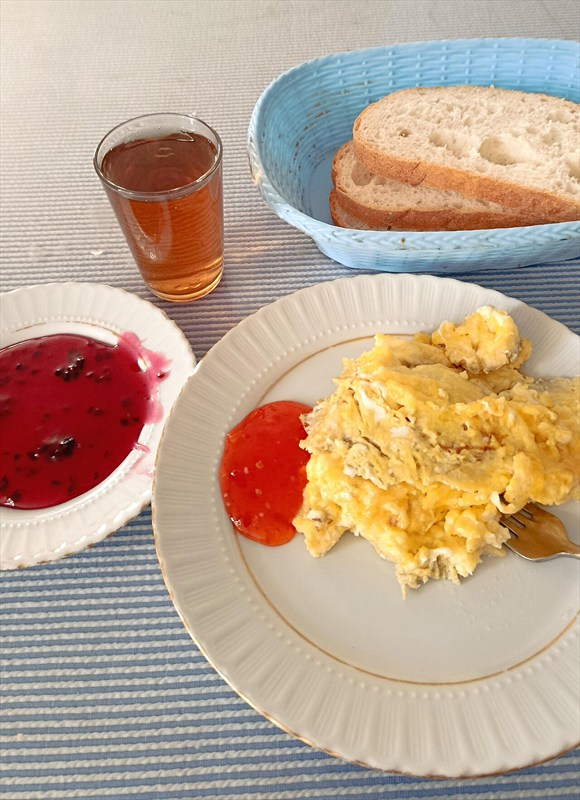Telur Balado: (12, 139, 553, 568)
